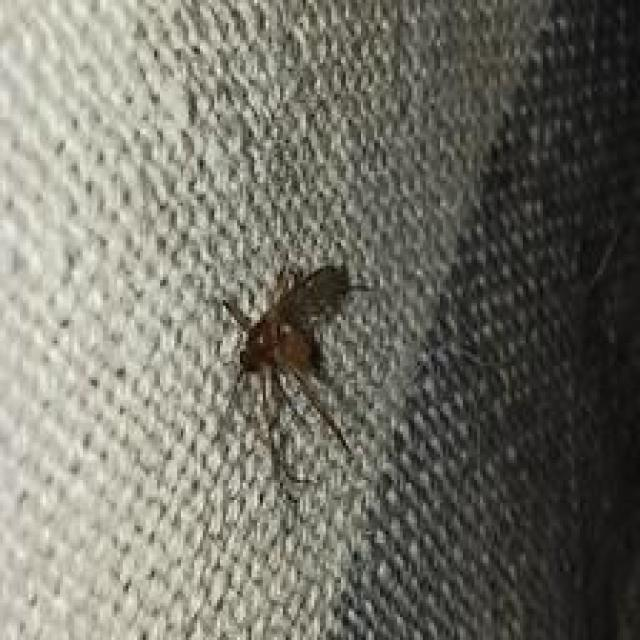Culex: (218, 260, 373, 503)
